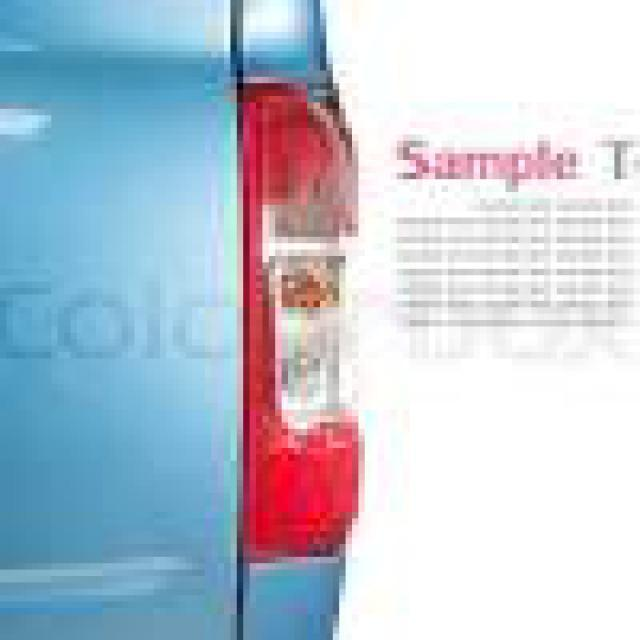door: (205, 58, 384, 570)
